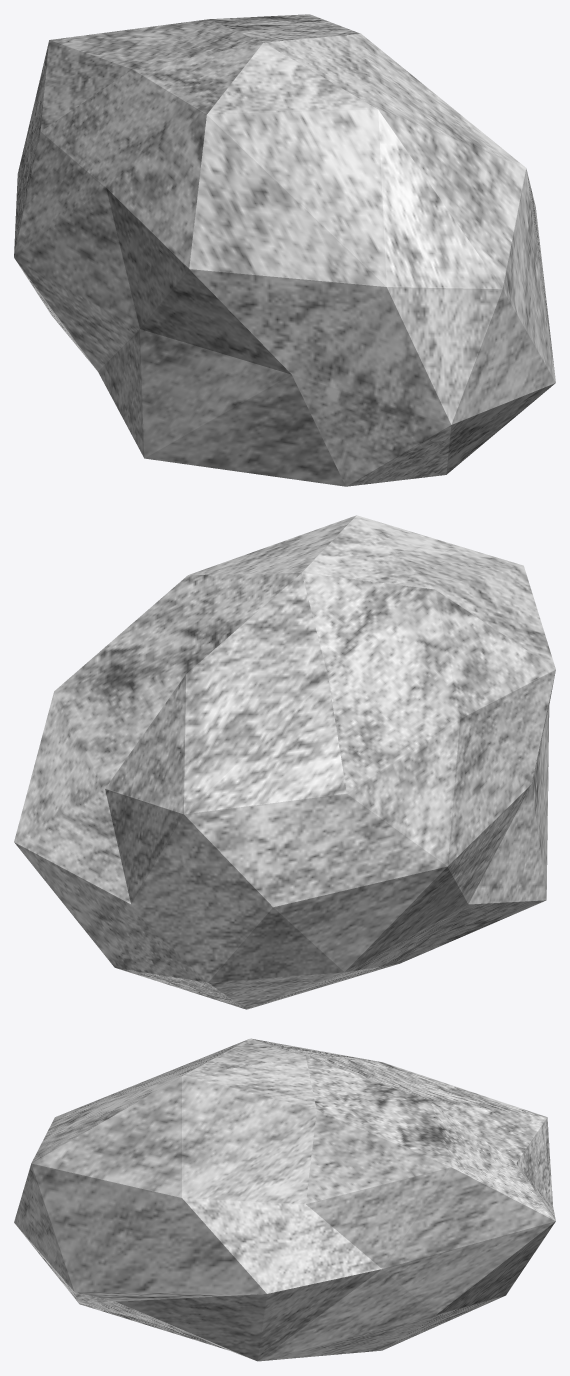
Rendered from smallRock.obj.
3 renders of one model, top to bottom at view 1: azimuth 30°, elevation 25°; view 2: azimuth 150°, elevation 25°; view 3: azimuth 270°, elevation 25°, orthographic. The views are drawn at different scales.
Parts seen in each view (by area): view 1: ICO球; view 2: ICO球; view 3: ICO球.
Part boxes in pixels (<box>): ICO球: <box>14,14,555,486</box>; ICO球: <box>14,515,555,1009</box>; ICO球: <box>14,1038,555,1361</box>.
Size of the model in its own units: 2.61 by 2.21 by 3.79.
1 material, 1 textured.
